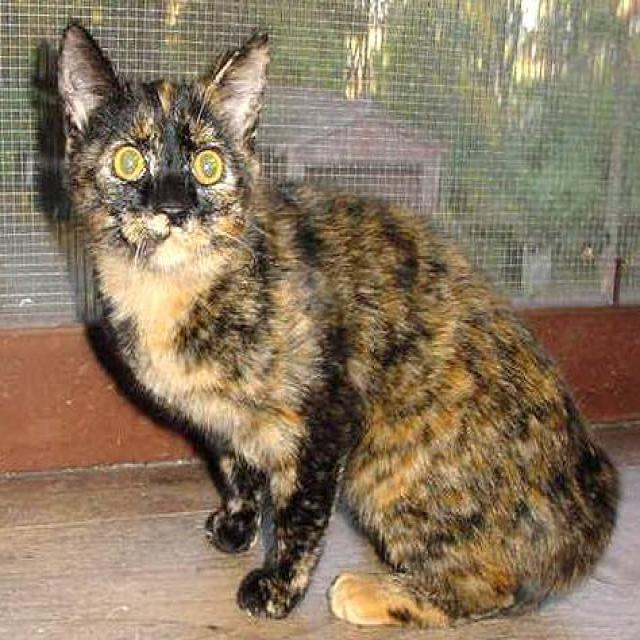cat: (35, 19, 621, 630)
